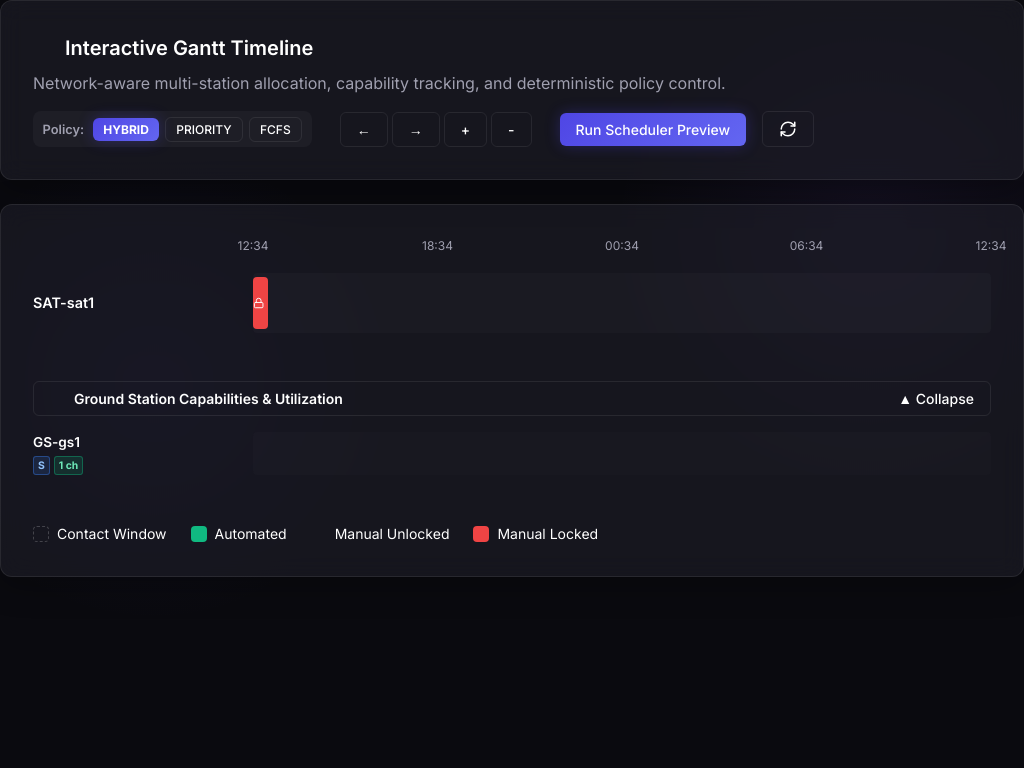
Test: GanttTimeline › discards preview without mutating UI current state
Click the button "Run Scheduler Preview" at point(653, 129), box [560,113,746,146]
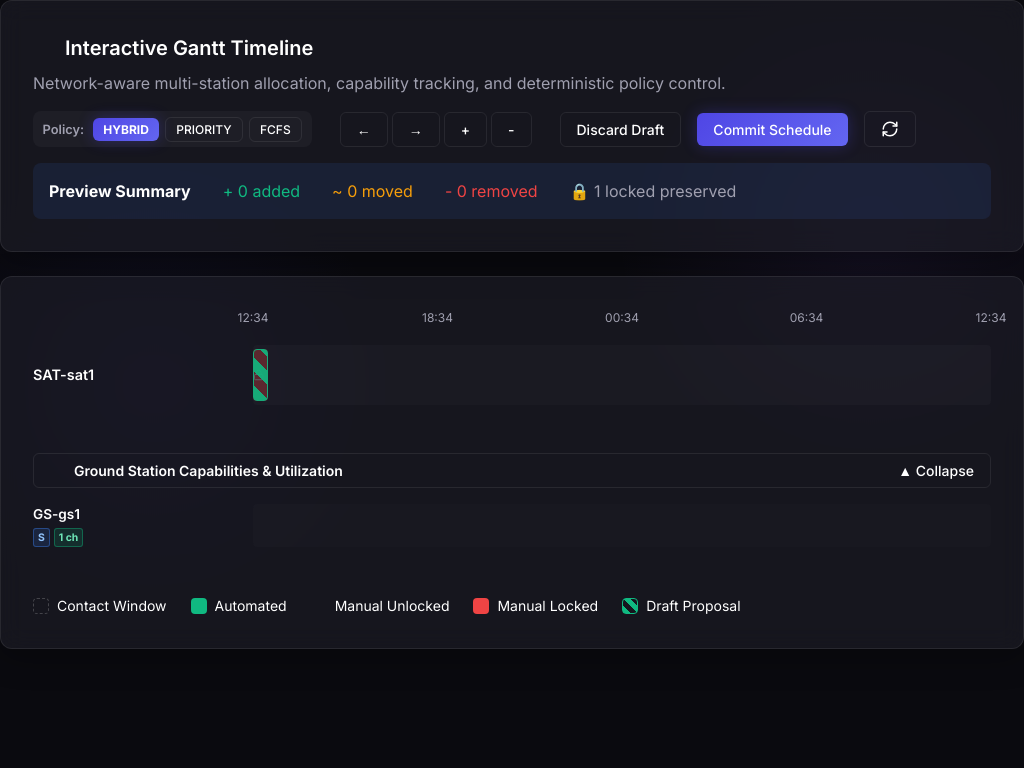
Result: the button "Discard Draft" is shown
Click the button "Discard Draft" at point(620, 129), box [560,112,681,147]
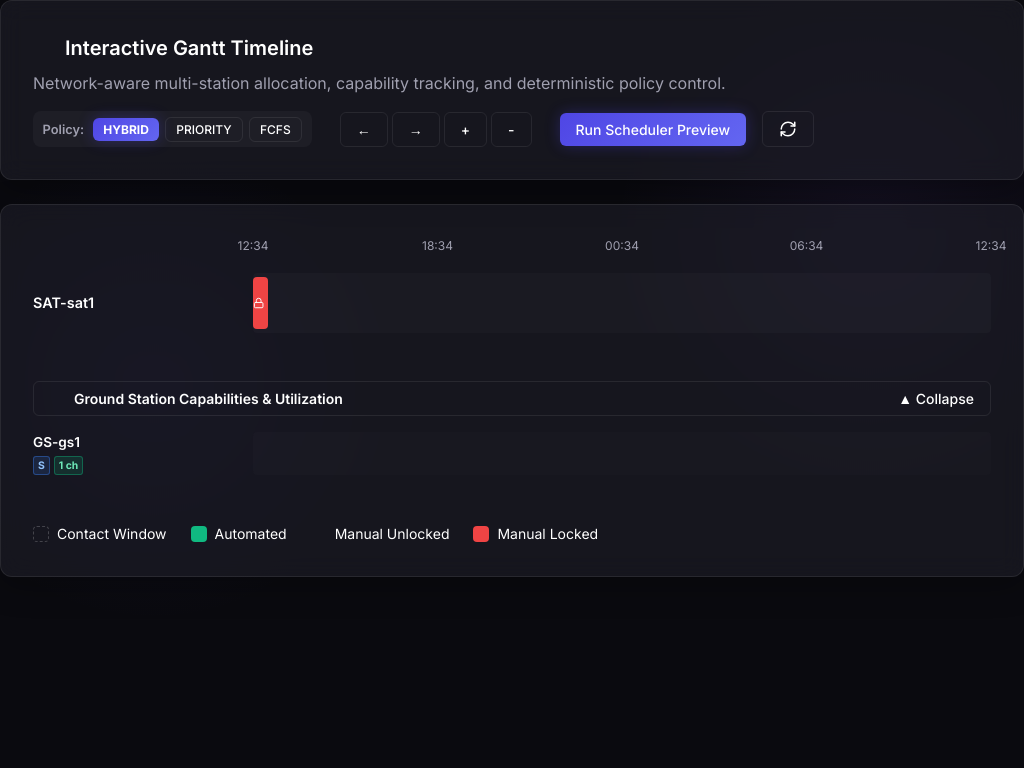
Result: the button "Discard Draft" is gone
Result: the button "Run Scheduler Preview" is enabled at [560,113,746,146]
